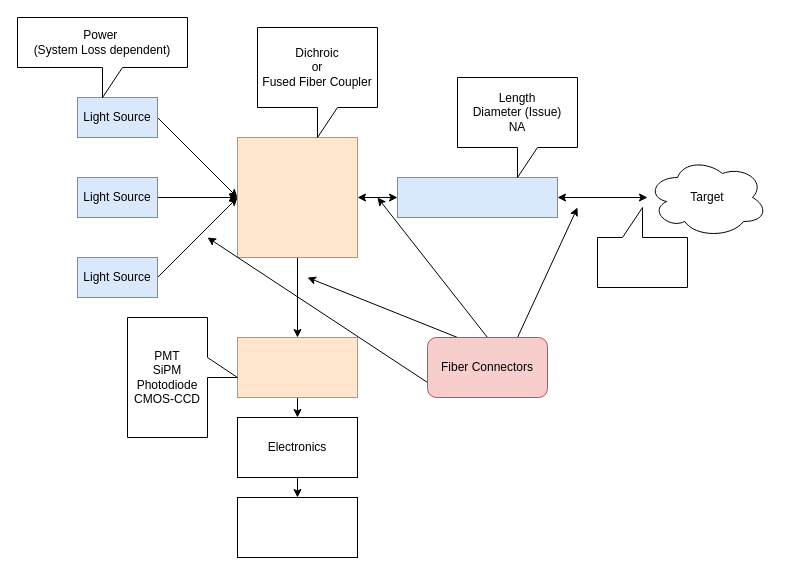
The diagram is 785 pixels wide and 575 high, and some of its shapes have lost their labels. The box of each missing label's shape, as (x1, y1, x2, y2) in pixels:
Data Processing: (236, 496, 358, 558)
Light Combine and Splite: (236, 136, 358, 258)
Light Detector: (236, 336, 358, 398)
Light Passage: (396, 176, 558, 218)
Taperd or Not: (596, 206, 688, 288)
